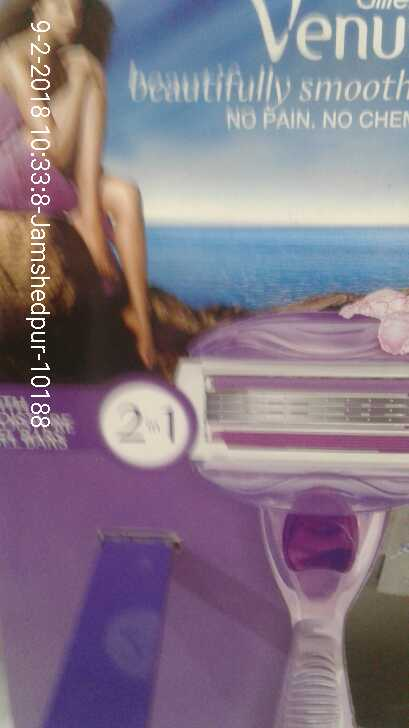reject: (81, 239, 218, 428)
